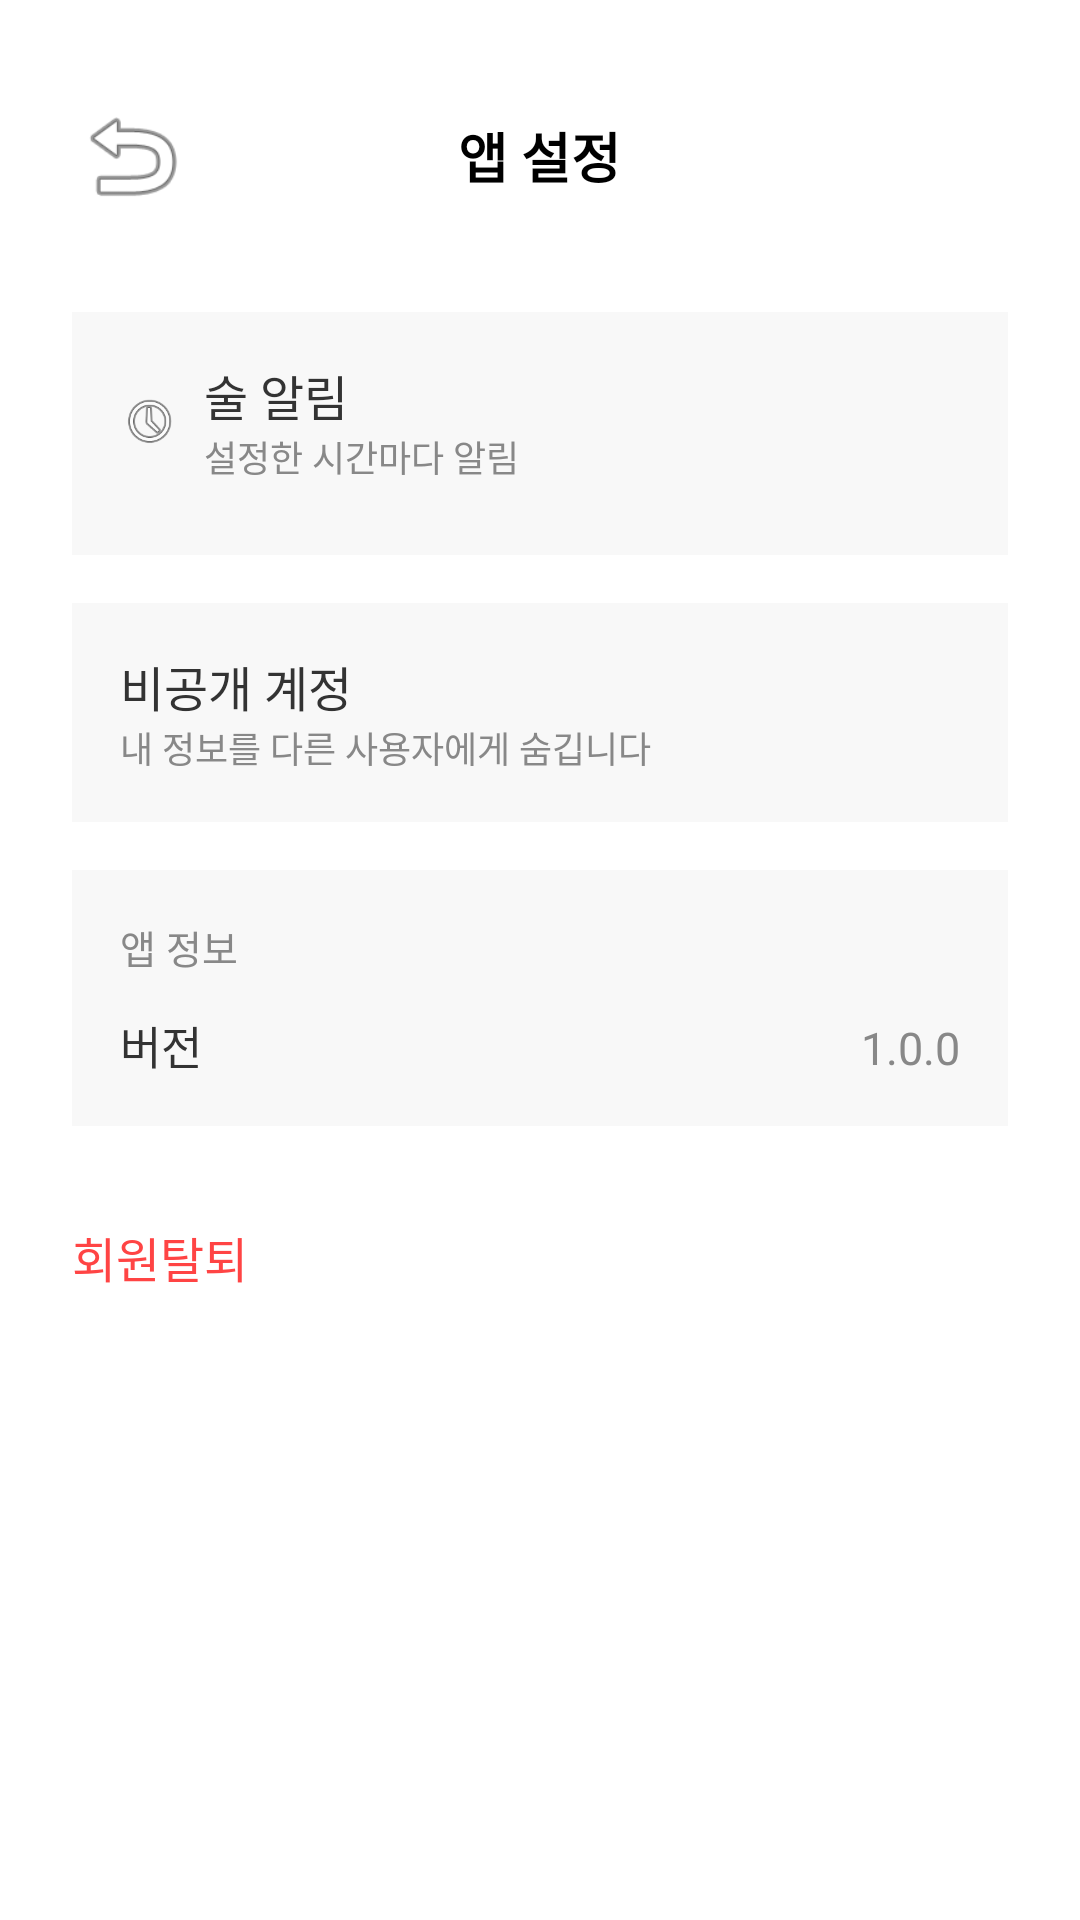

Icon click points for this 1080w x 1920h phone screenshot, format (x,y):
recent history: (149,421)
뒤로가기: (133,156)
